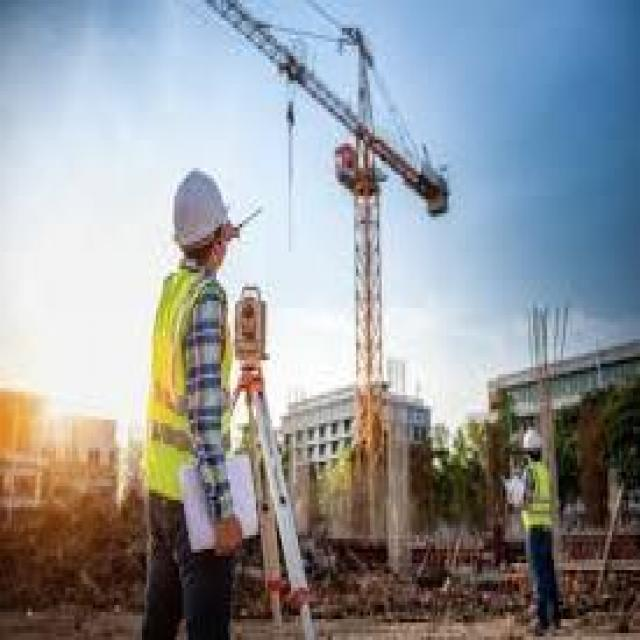Reflective-Jacket: (133, 262, 240, 521), (517, 462, 563, 542)
Safety-Helmet: (156, 158, 244, 262), (519, 423, 549, 458)
